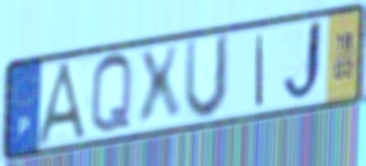A: (33, 58, 92, 147)
I: (254, 32, 266, 109)
J: (280, 16, 325, 107)
Q: (88, 51, 135, 139)
U: (182, 31, 233, 123)
X: (135, 42, 184, 131)
